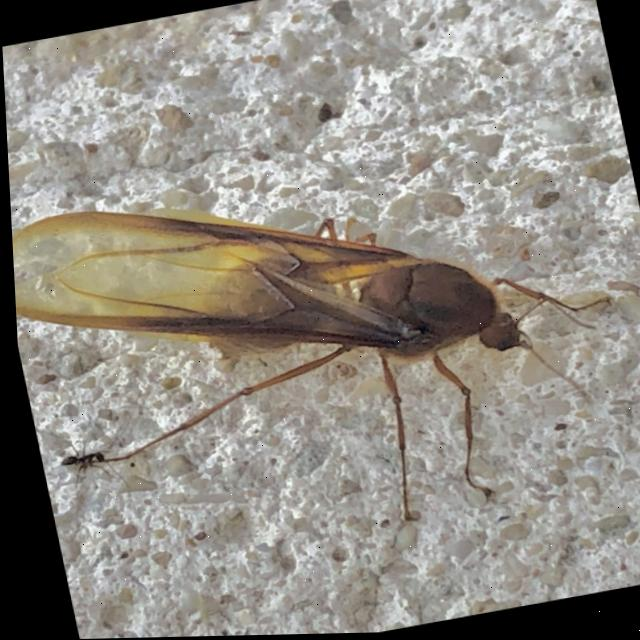Alive-Male-Alate: (5, 118, 640, 590)
